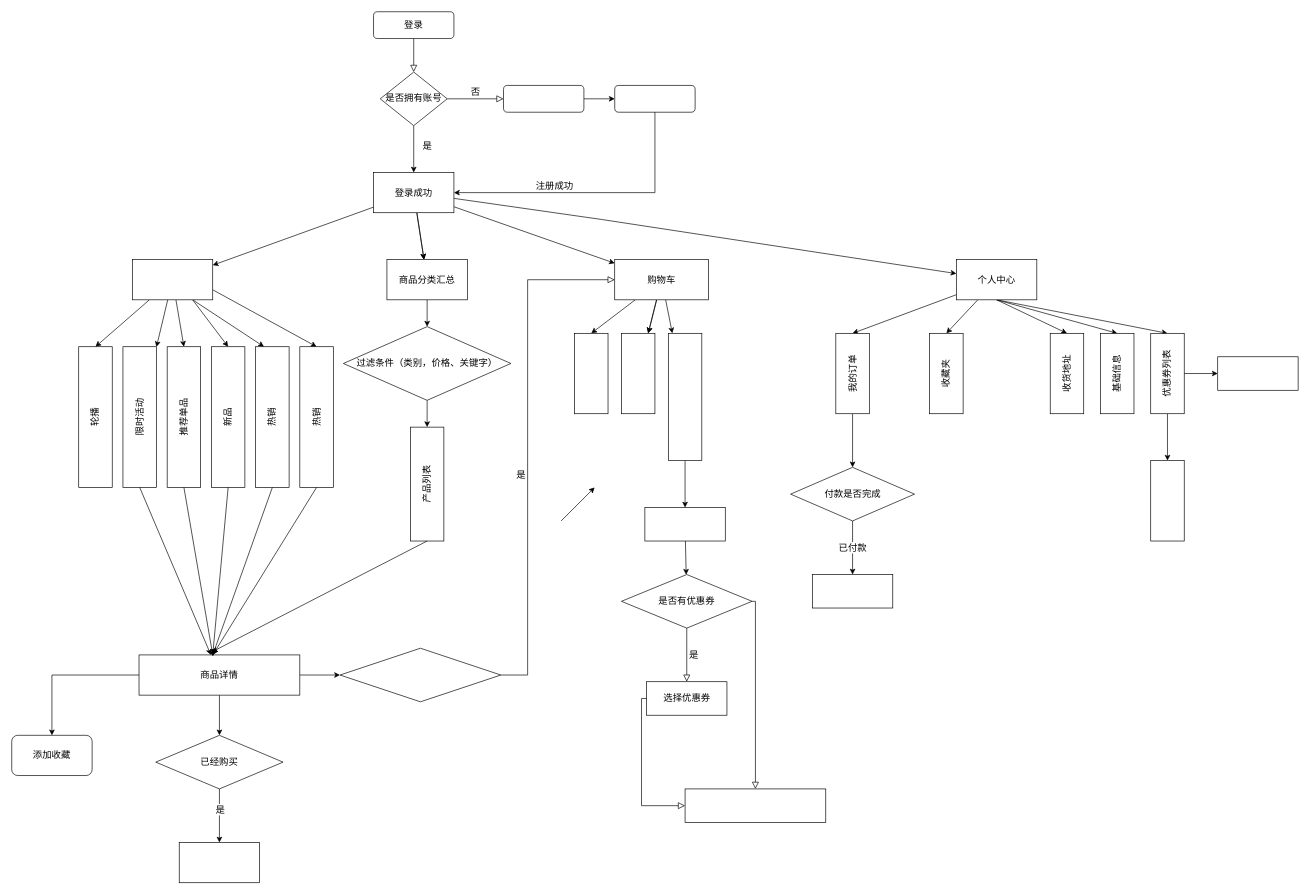
This 1310x894 diagram has some shape labels left out. The shapes that lost their labels are listed below. From the top down, each one's centre as x and y in pixels, then its label:
At pixel 543 98: "注册".
At pixel 654 98: "1.微信授权 2.手机短信".
At pixel 172 279: "首页".
At pixel 591 373: "删除单个信息".
At pixel 638 373: "清空购物车".
At pixel 1257 373: "商城优惠券".
At pixel 685 397: "提交订单".
At pixel 1167 500: "我的优惠券".
At pixel 684 524: "订单详情".
At pixel 852 591: "配送信息".
At pixel 420 675: "是否有库存".
At pixel 755 805: "填写相关信息及付款".
At pixel 219 862: "评论".
